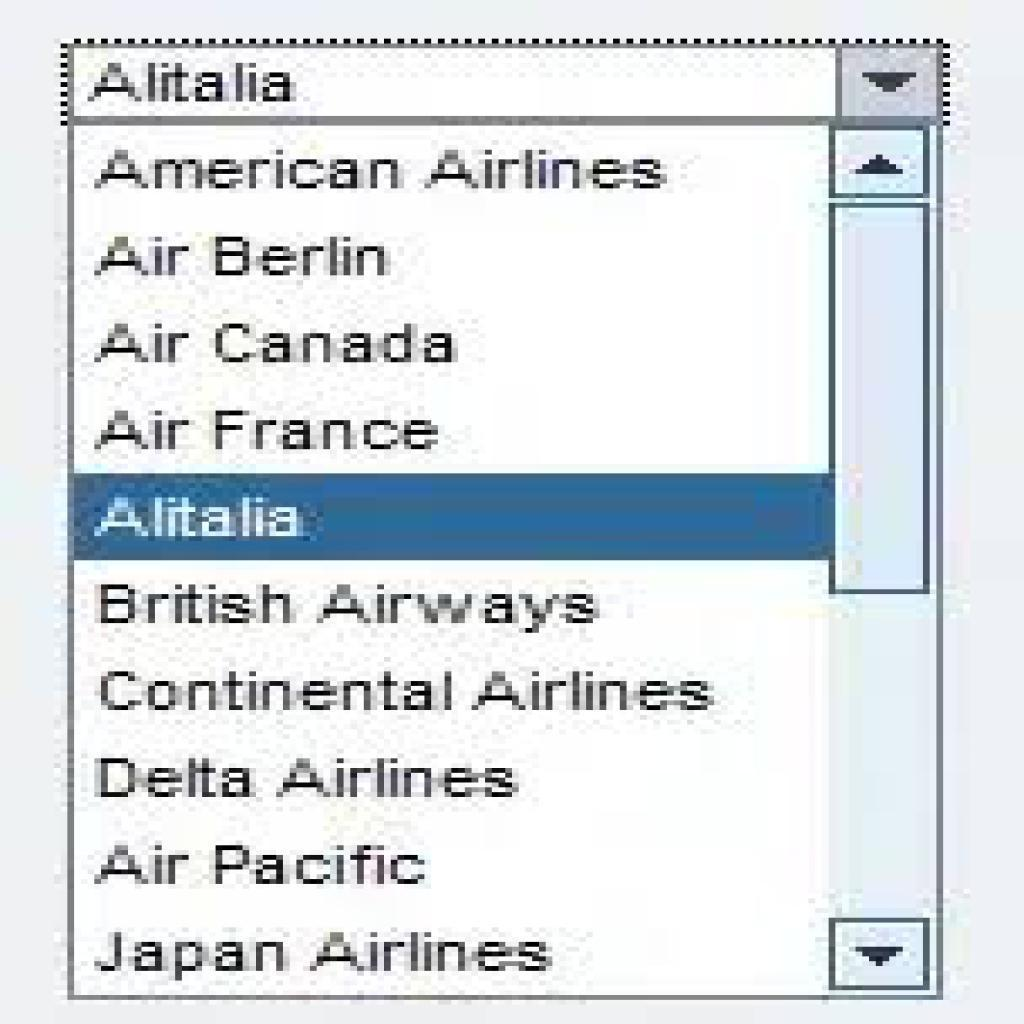dropdown: (65, 41, 945, 125)
